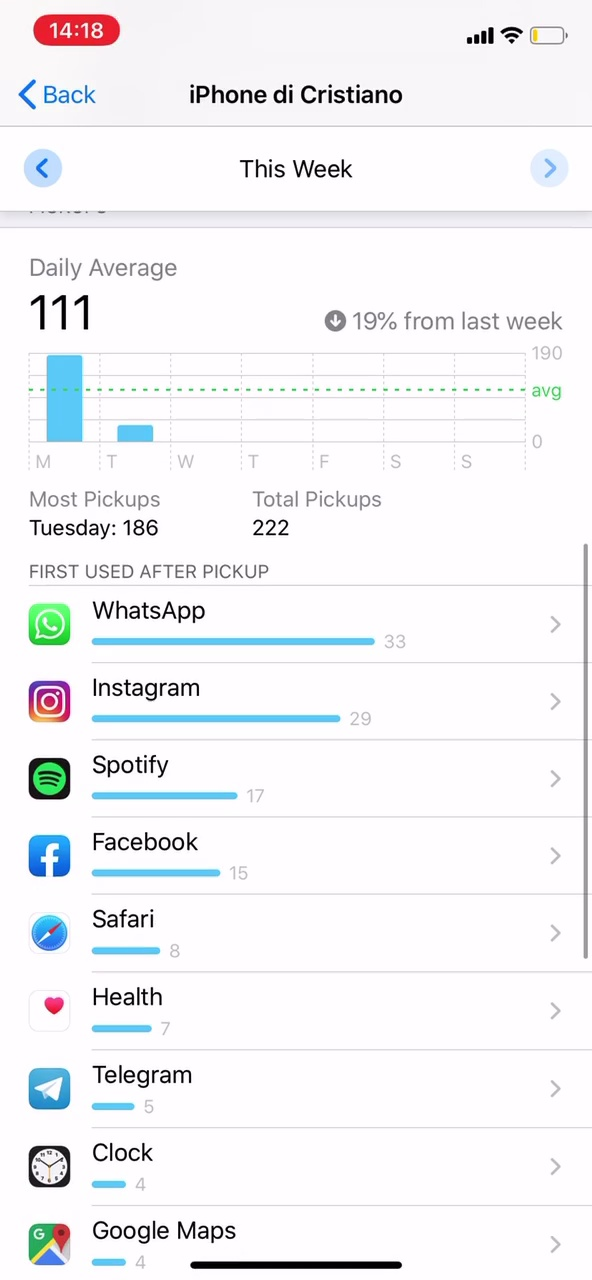pick_app: (23, 591, 432, 657), (23, 667, 397, 727), (22, 750, 282, 810), (20, 827, 275, 883), (23, 1058, 237, 1121), (25, 900, 226, 964), (26, 1138, 220, 1197), (25, 985, 193, 1042)
pick_over: (22, 485, 423, 552)
week: (221, 150, 374, 185)
